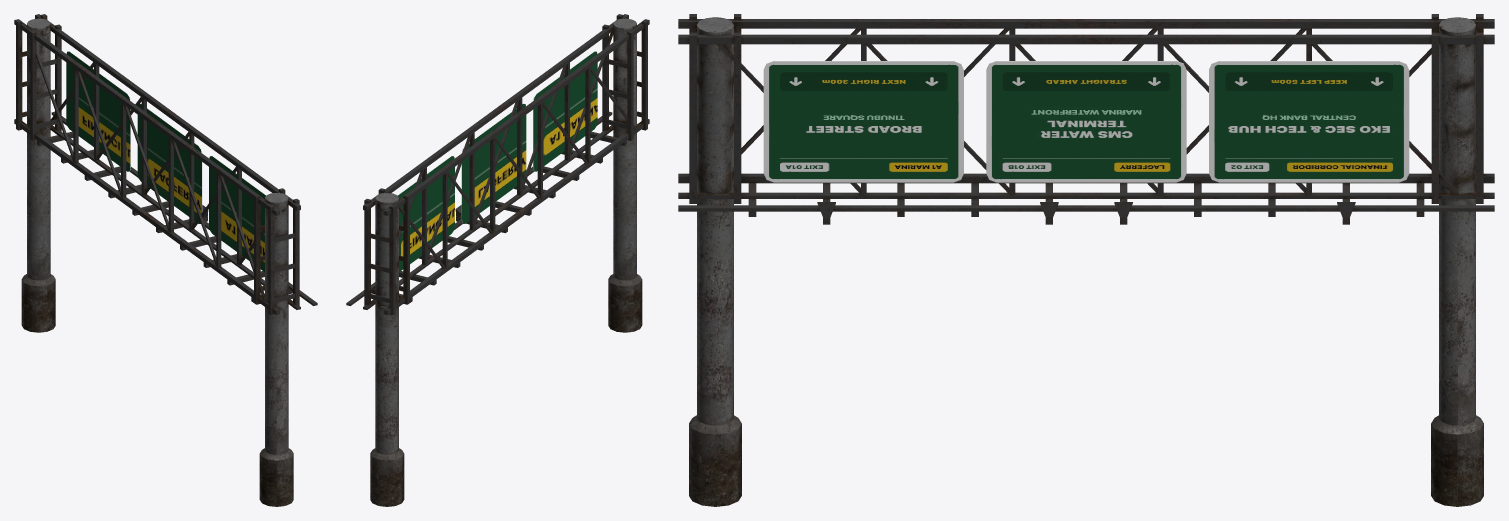
File: billboard_road_single_sided.glb
3 views of the same model, side by side, from view 1: azimuth 30°, elevation 25°; view 2: azimuth 150°, elevation 25°; view 3: azimuth 270°, elevation 25° (orthographic). The views are drawn at different scales.
Parts seen in each view (by area): view 1: SM_Bilboard_01.001_Material_0, SM_Bilboard_01.001_MI_Bilboard_03_0, SM_Bilboard_01.001_MI_Bilboard_02_0, SM_Bilboard_01.001_MI_Bilboard_01_0; view 2: SM_Bilboard_01.001_Material_0, SM_Bilboard_01.001_MI_Bilboard_02_0, SM_Bilboard_01.001_MI_Bilboard_01_0, SM_Bilboard_01.001_MI_Bilboard_03_0; view 3: SM_Bilboard_01.001_Material_0, SM_Bilboard_01.001_MI_Bilboard_01_0, SM_Bilboard_01.001_MI_Bilboard_02_0, SM_Bilboard_01.001_MI_Bilboard_03_0.
Boxes of the visible parts, x1,y1,x2,y2 form: SM_Bilboard_01.001_Material_0: [14, 14, 317, 506]; SM_Bilboard_01.001_MI_Bilboard_03_0: [66, 51, 130, 171]; SM_Bilboard_01.001_MI_Bilboard_02_0: [137, 103, 202, 223]; SM_Bilboard_01.001_MI_Bilboard_01_0: [209, 156, 266, 271]; SM_Bilboard_01.001_Material_0: [346, 14, 649, 506]; SM_Bilboard_01.001_MI_Bilboard_02_0: [461, 103, 526, 223]; SM_Bilboard_01.001_MI_Bilboard_01_0: [533, 51, 597, 171]; SM_Bilboard_01.001_MI_Bilboard_03_0: [397, 156, 454, 271]; SM_Bilboard_01.001_Material_0: [678, 14, 1494, 506]; SM_Bilboard_01.001_MI_Bilboard_01_0: [763, 61, 963, 182]; SM_Bilboard_01.001_MI_Bilboard_02_0: [986, 61, 1186, 182]; SM_Bilboard_01.001_MI_Bilboard_03_0: [1209, 61, 1409, 182].
Bounding box in the file's own units: 1.26 × 7 × 11.
4 materials, 4 textured.
